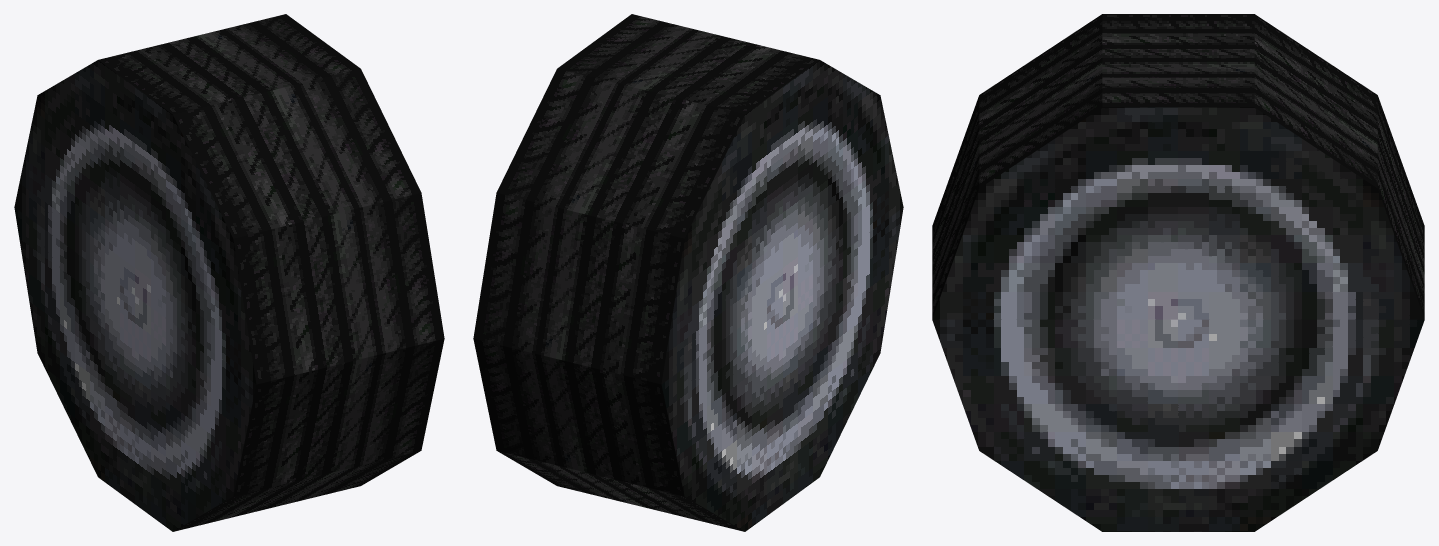
The model's file is Classic_Wheel.fbx.
The picture shows the model from 3 angles, left to right: view 1: azimuth 30°, elevation 25°; view 2: azimuth 150°, elevation 25°; view 3: azimuth 270°, elevation 25°; orthographic projection.
Visible parts, largest first — view 1: wheel_classic_l1; view 2: wheel_classic_l1; view 3: wheel_classic_l1.
Boxes of the visible parts, x1,y1,x2,y2 form: wheel_classic_l1: (14, 14, 444, 531); wheel_classic_l1: (473, 14, 903, 531); wheel_classic_l1: (932, 14, 1424, 531).
Bounding box in the file's own units: 45.4 × 96.23 × 101.
2 materials, 2 textured.
